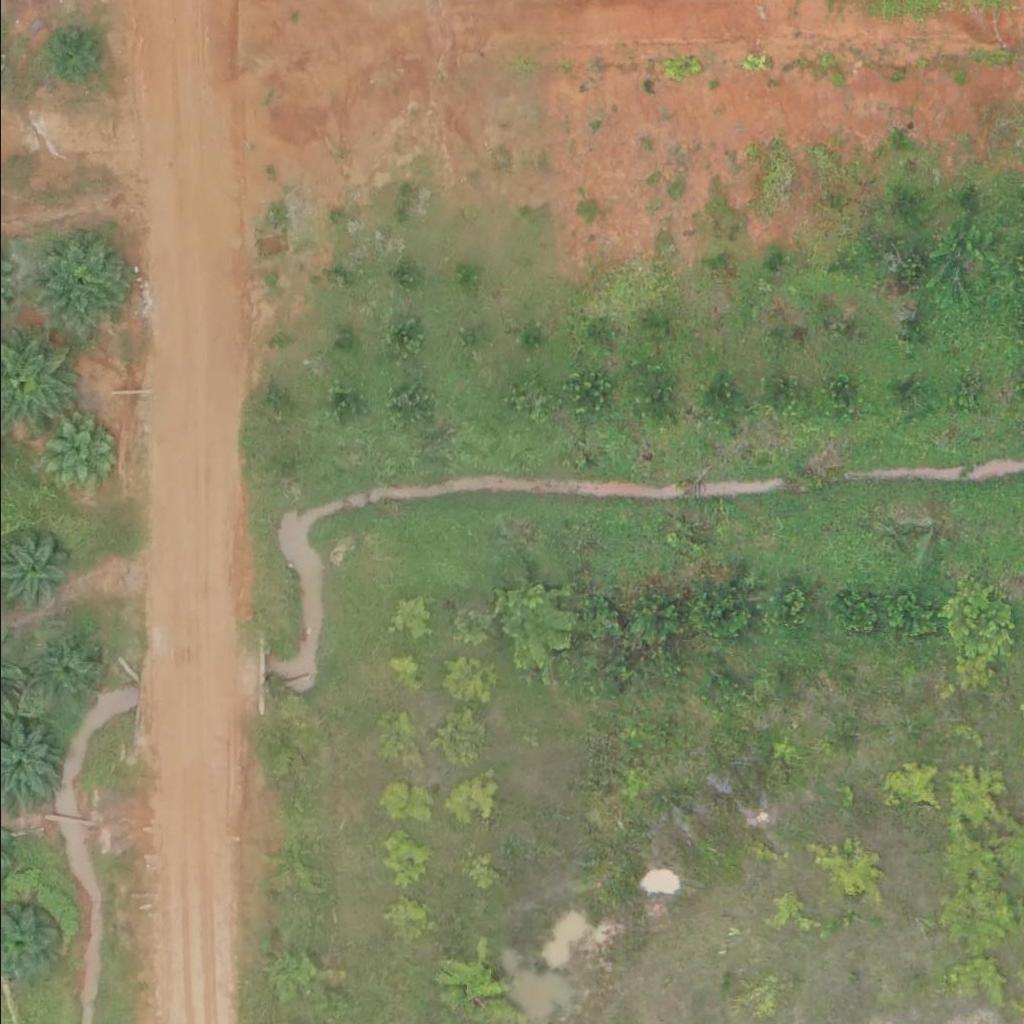Kelapa_Sawit: (27, 233, 128, 333), (31, 416, 119, 503), (40, 16, 103, 79), (32, 641, 95, 703)
